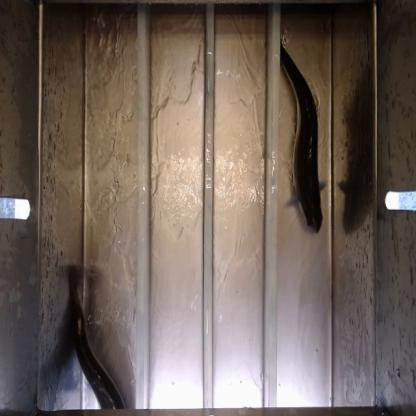pezw: (280, 36, 329, 240), (64, 259, 129, 410)
